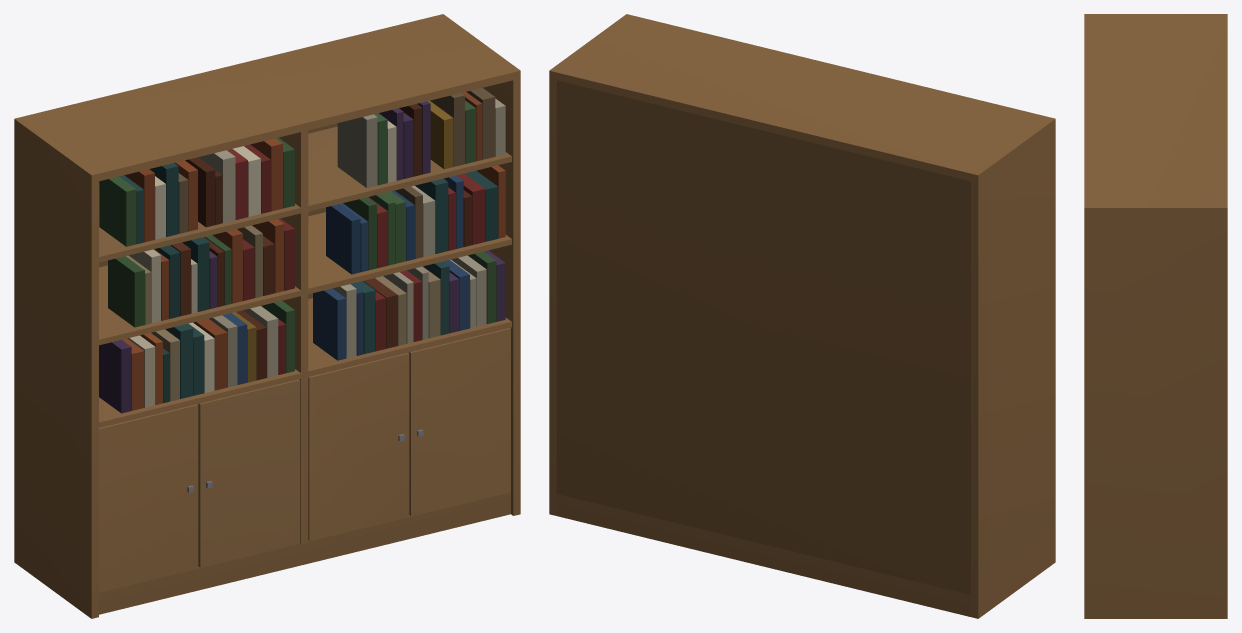
Rendered from bookcase.wide.oak.glb.
3 views of the same model, side by side, from view 1: azimuth 30°, elevation 25°; view 2: azimuth 150°, elevation 25°; view 3: azimuth 270°, elevation 25° (orthographic). The views are drawn at different scales.
Visible parts, largest first — view 1: bookcase_wide_oak; view 2: bookcase_wide_oak; view 3: bookcase_wide_oak.
Boxes of the visible parts, left/top/right/bottom form: bookcase_wide_oak: left=14, top=14, right=520, bottom=618; bookcase_wide_oak: left=549, top=14, right=1055, bottom=618; bookcase_wide_oak: left=1084, top=14, right=1227, bottom=618.
Size of what is drawn, in the model's own units: 2.03 by 2 by 0.633.
